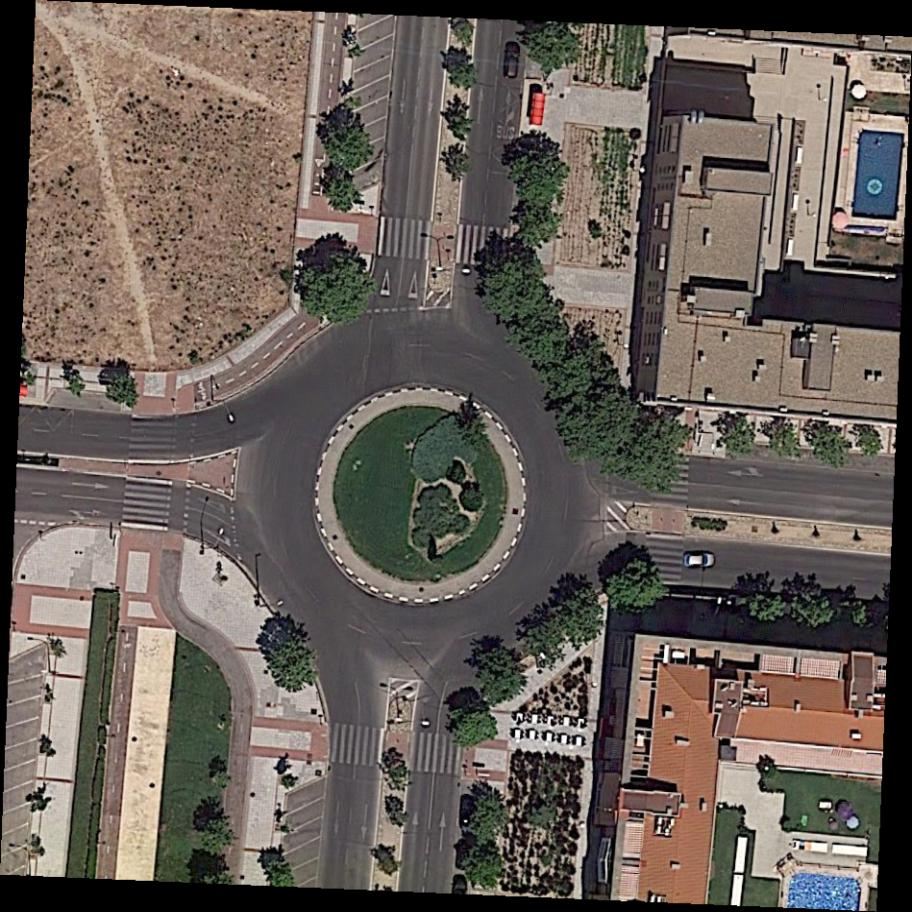small-vehicle: (502, 43, 522, 79), (682, 551, 718, 571)
